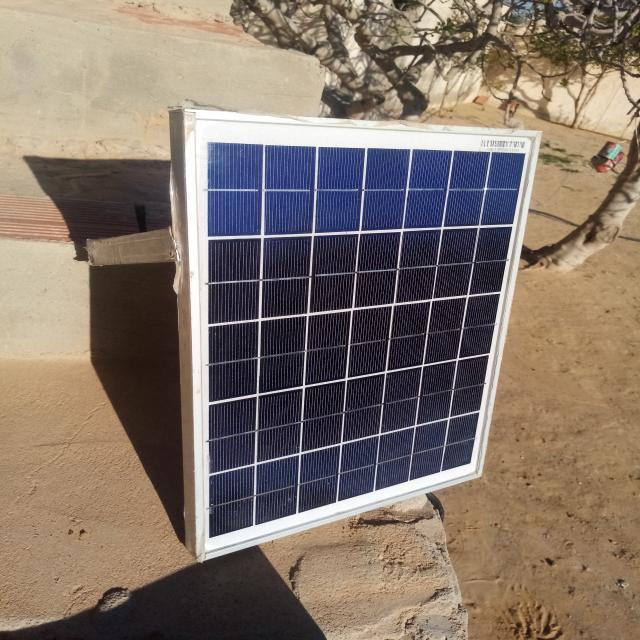no faulty: (185, 109, 544, 558)
